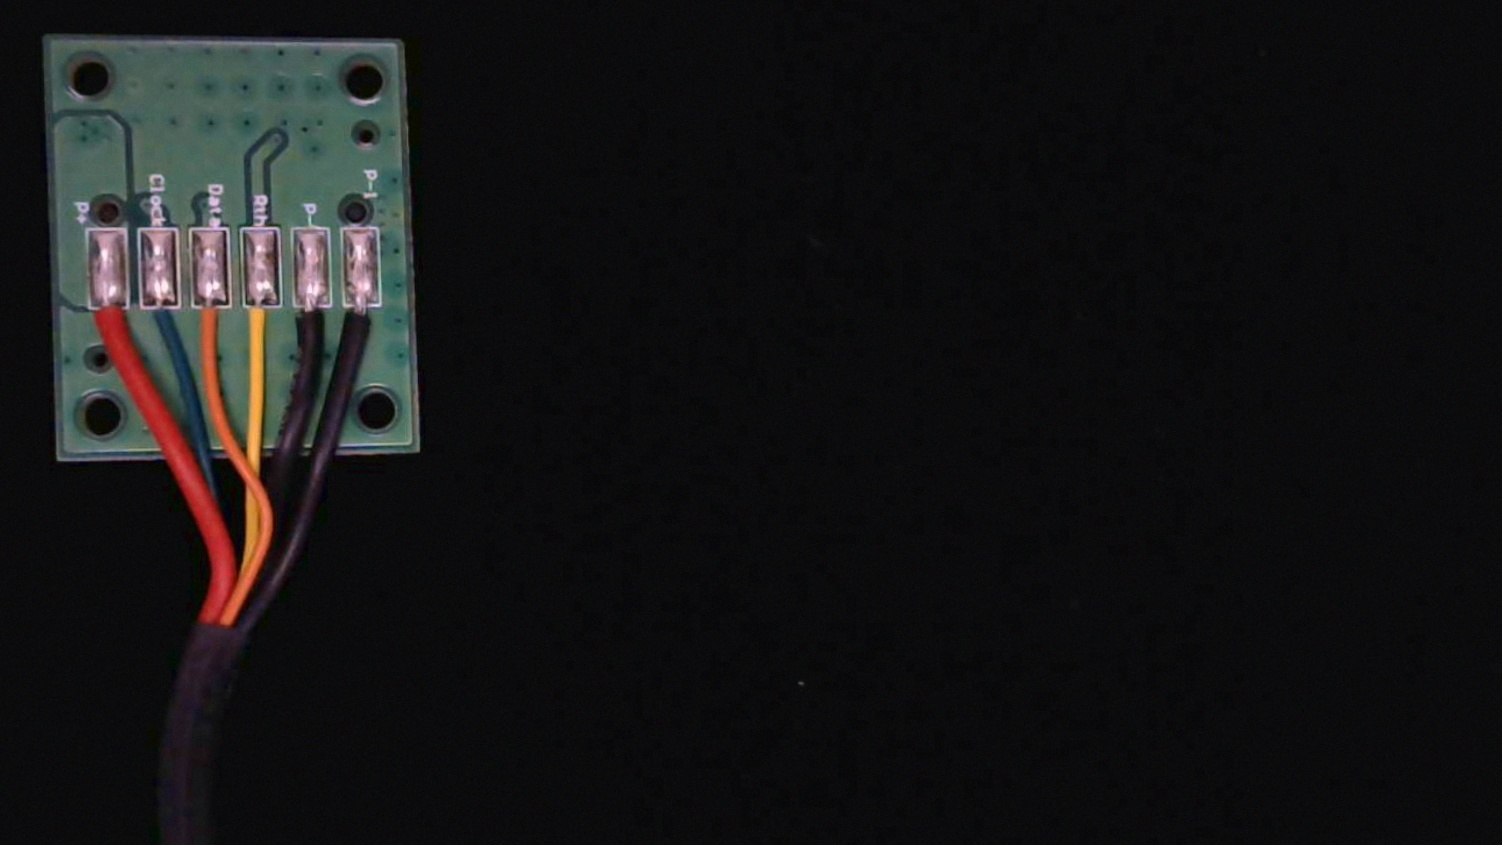Black: (289, 285, 332, 376)
Black1: (344, 284, 385, 367)
Green: (136, 284, 182, 370)
Orange: (191, 285, 233, 375)
Red: (86, 292, 131, 379)
Yellow: (239, 282, 284, 373)
